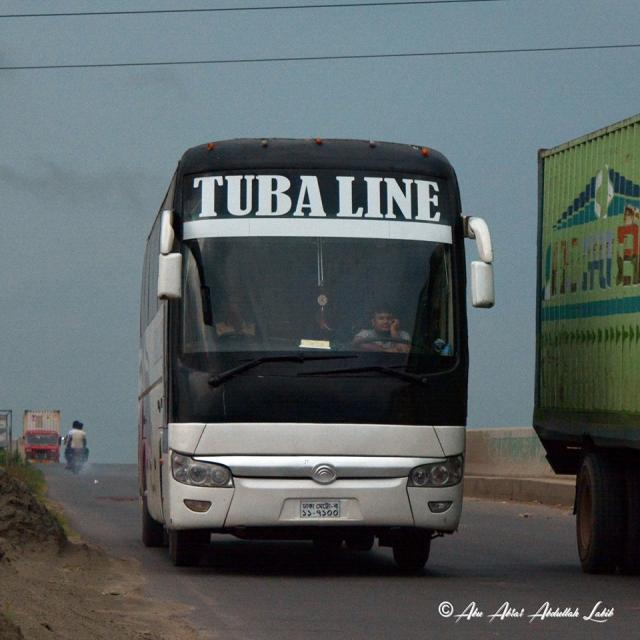bus: (137, 134, 494, 572)
